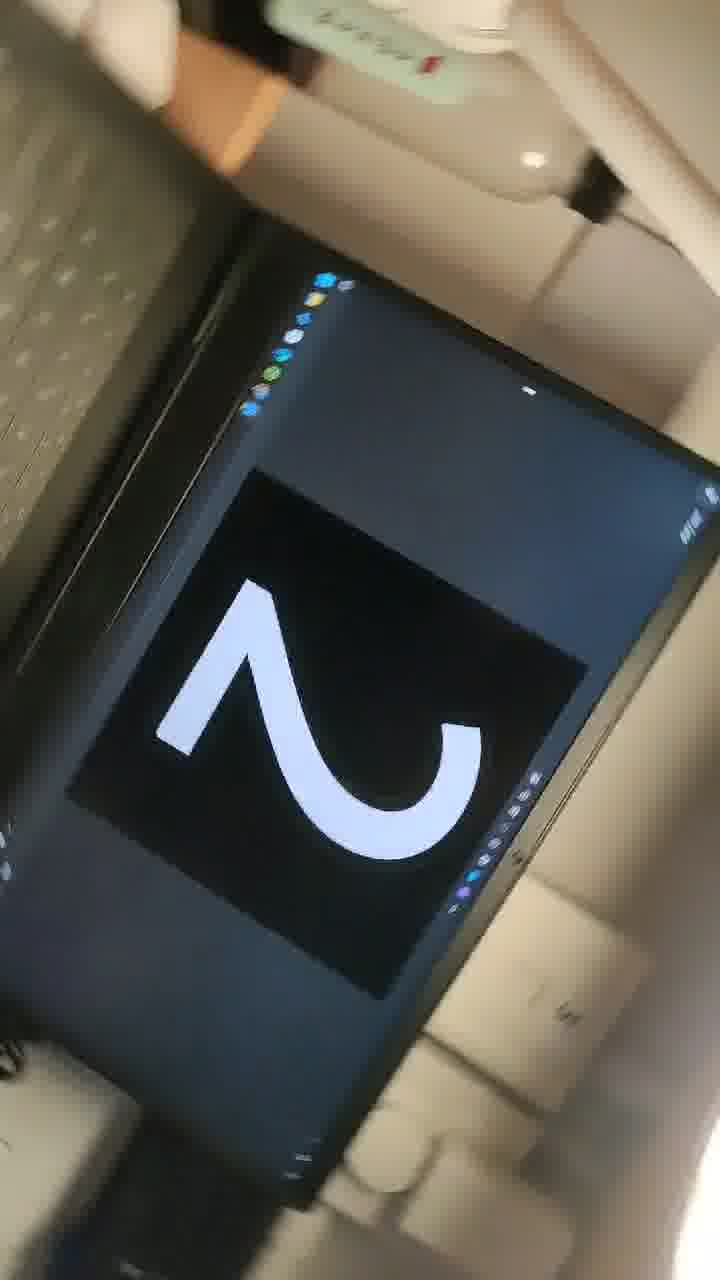two: (129, 521, 547, 981)
